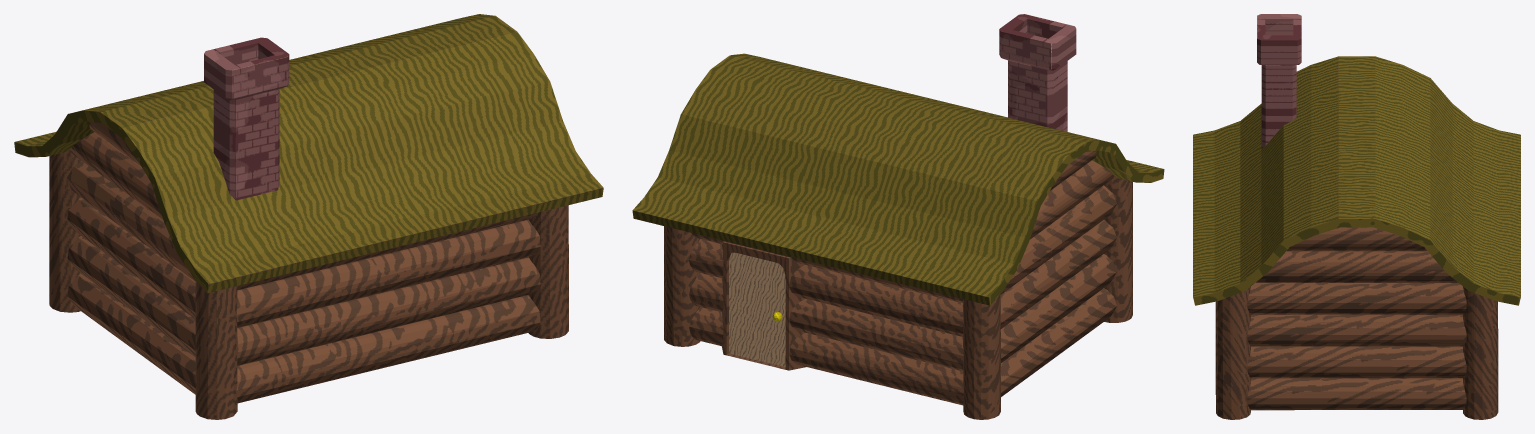
The model's file is house1.fbx.
3 renders of one model, left to right at view 1: azimuth 30°, elevation 25°; view 2: azimuth 150°, elevation 25°; view 3: azimuth 270°, elevation 25°, orthographic. The views are drawn at different scales.
Parts seen in each view (by area): view 1: Cube; view 2: Cube; view 3: Cube.
Part boxes in pixels (x1=…): Cube: x1=14, y1=14, x2=603, y2=419; Cube: x1=632, y1=14, x2=1164, y2=419; Cube: x1=1193, y1=14, x2=1520, y2=419.
Size of the model in its own units: 2194 by 1721 by 1868.
Materials: 1 (1 with a texture image).
